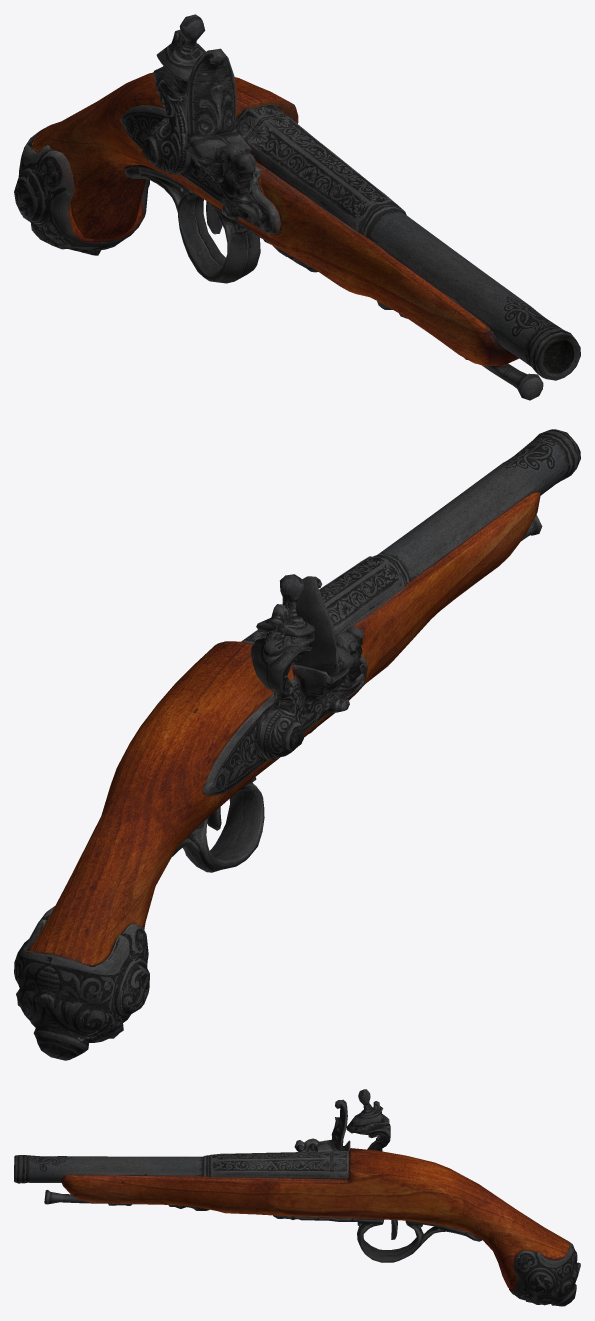
The model's file is Legion1212.glb.
The picture shows the model from 3 angles, top to bottom: view 1: azimuth 30°, elevation 25°; view 2: azimuth 150°, elevation 25°; view 3: azimuth 270°, elevation 25°; orthographic projection. The views are drawn at different scales.
Visible parts, largest first — view 1: fa_flintlockPistolobjcleanermaterialmergergles.001; view 2: fa_flintlockPistolobjcleanermaterialmergergles.001; view 3: fa_flintlockPistolobjcleanermaterialmergergles.001.
Part boxes in pixels (box(x1,y1,x2,y2)): fa_flintlockPistolobjcleanermaterialmergergles.001: box(14, 14, 580, 400); fa_flintlockPistolobjcleanermaterialmergergles.001: box(14, 429, 580, 1060); fa_flintlockPistolobjcleanermaterialmergergles.001: box(14, 1089, 580, 1306).
Bounding box in the file's own units: 0.4159 × 1.04 × 2.64.
Materials: 1 (1 with a texture image).
